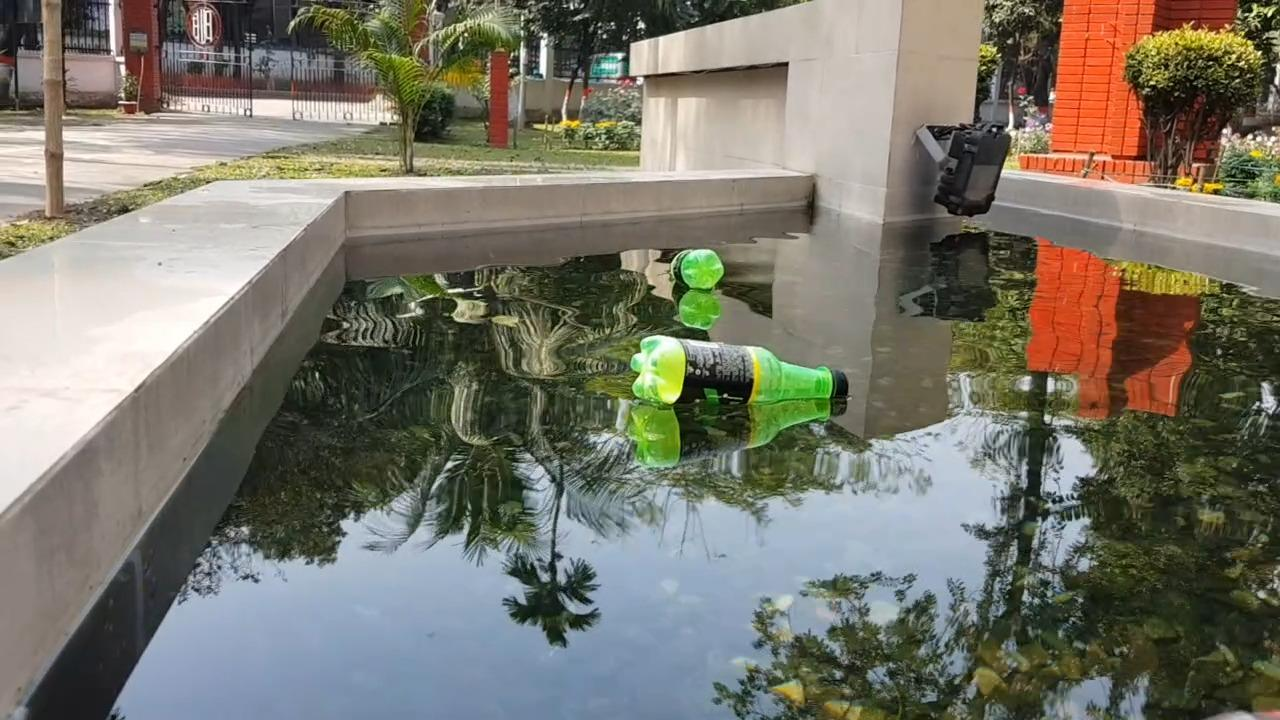trash_plastic: (626, 332, 851, 409), (678, 247, 729, 287)
